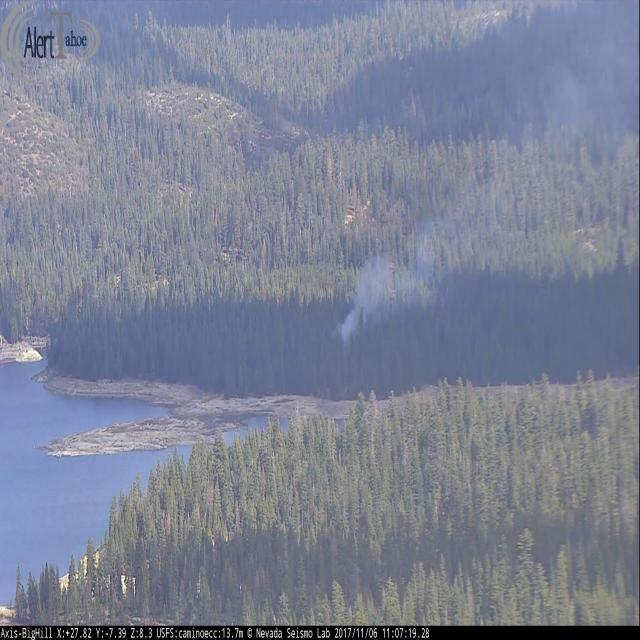smoke: (337, 0, 640, 343)
